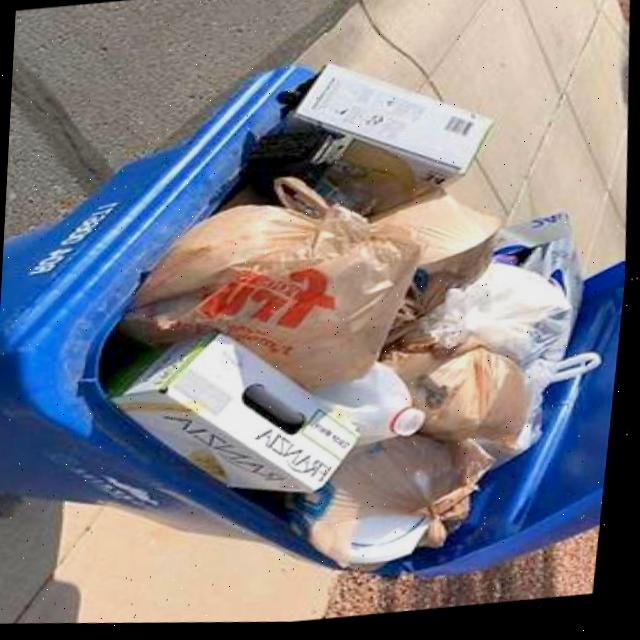Cardboard: (117, 335, 361, 495), (252, 68, 495, 220)
Garbage: (119, 68, 604, 570)
Plastic_Bag: (125, 207, 422, 390), (386, 267, 604, 470), (289, 439, 498, 569), (375, 199, 503, 328)
Plastic_Container: (319, 366, 429, 447)
